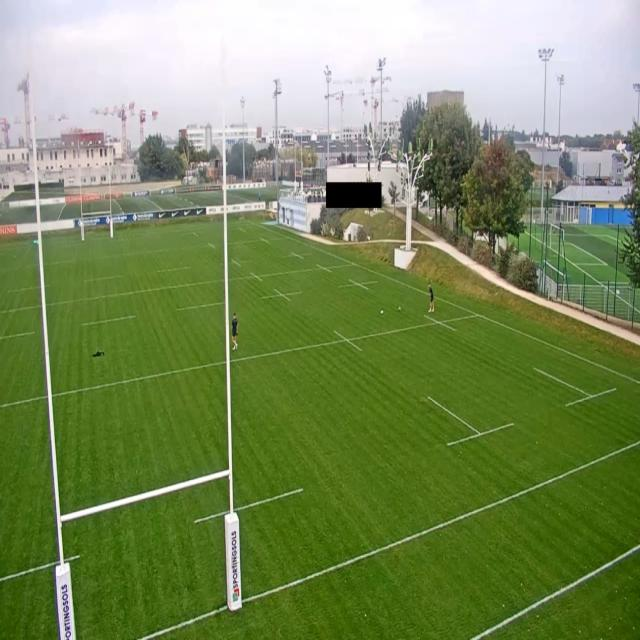person: (231, 312, 238, 351), (427, 282, 434, 312)
rugby ball: (396, 302, 404, 314), (380, 309, 383, 314)
